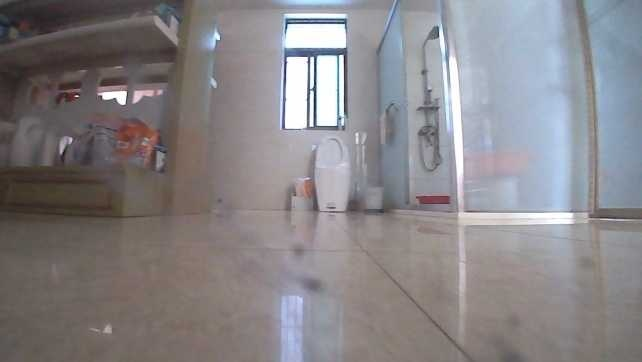toilet: (310, 135, 356, 220)
